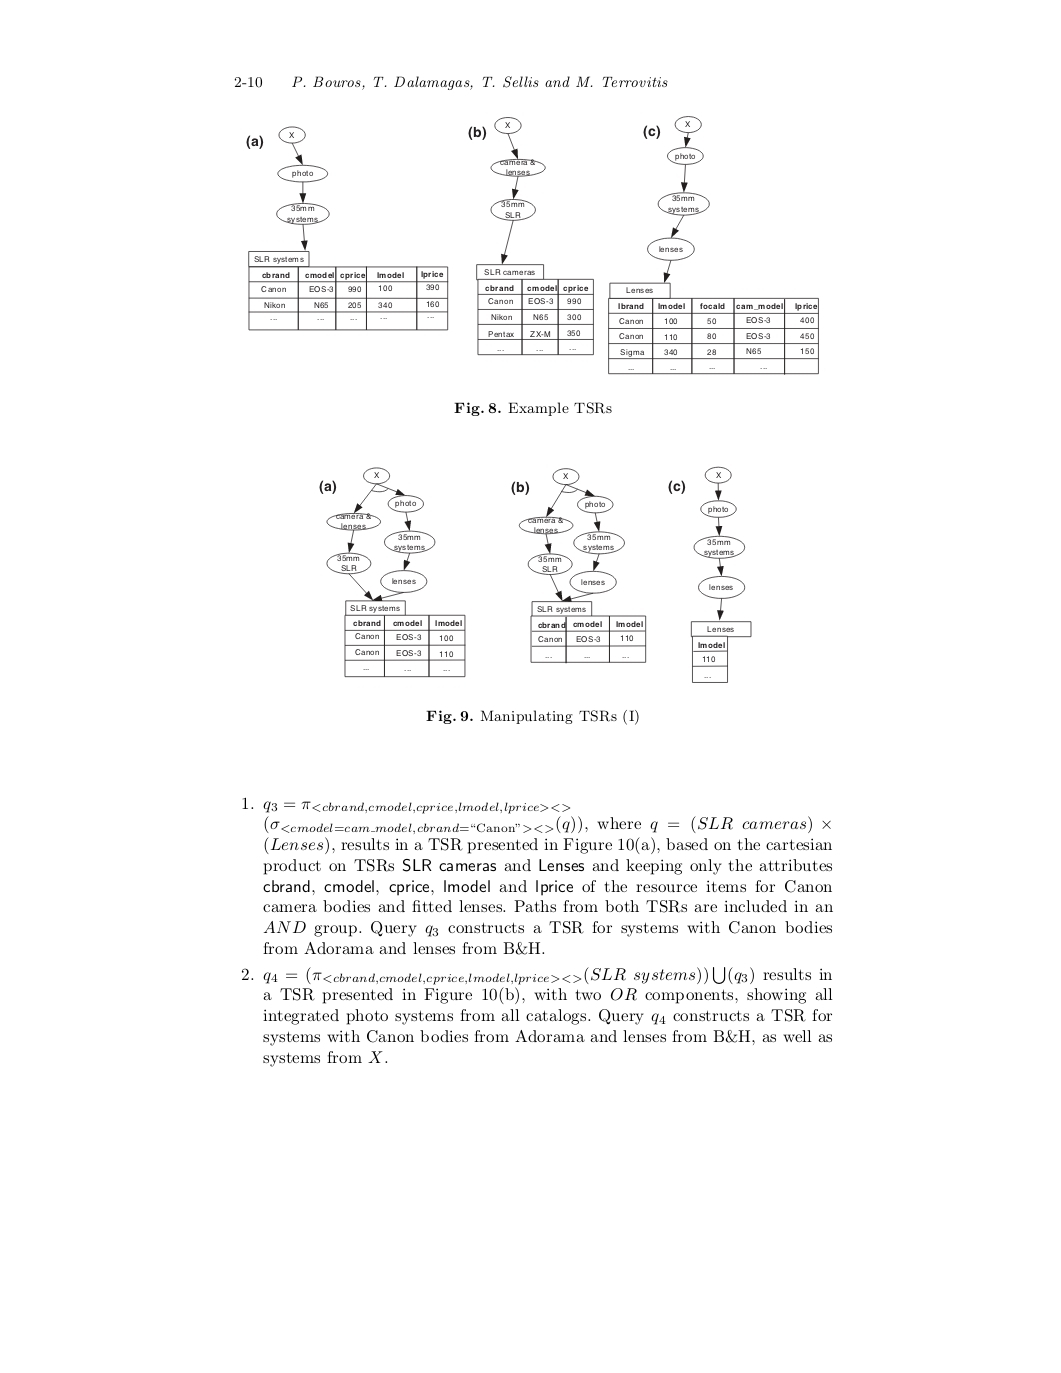figure: (609, 115, 818, 374), (246, 125, 448, 331), (319, 466, 465, 678), (468, 115, 593, 356), (512, 467, 646, 664), (668, 465, 751, 683)
